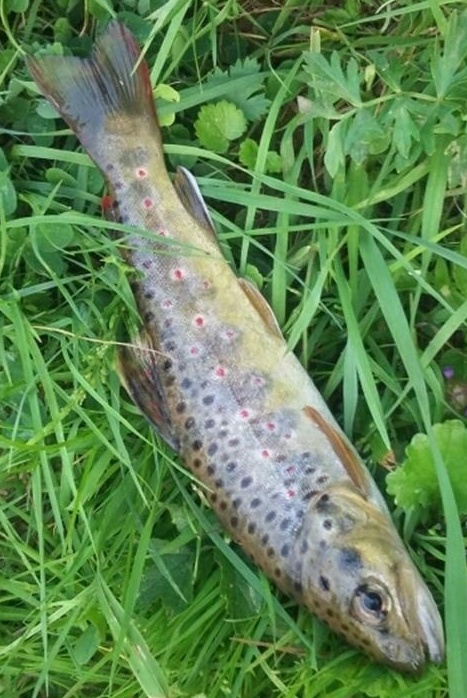Salmo trutta subsp. fario: (20, 20, 447, 678)
